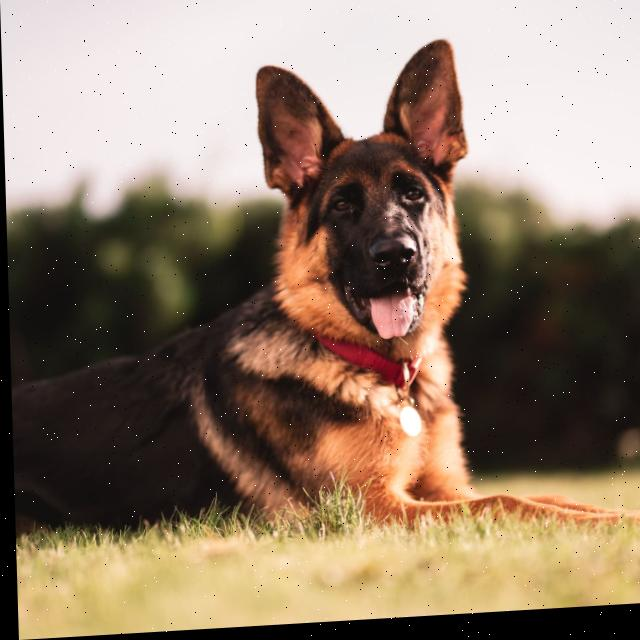GERMAN_SHEPHERD: (1, 9, 640, 574)
